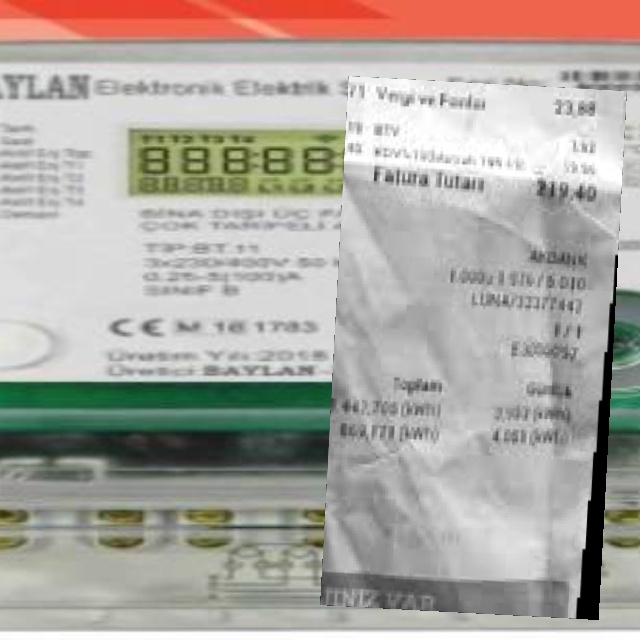electricity-bill: (319, 76, 626, 620)
